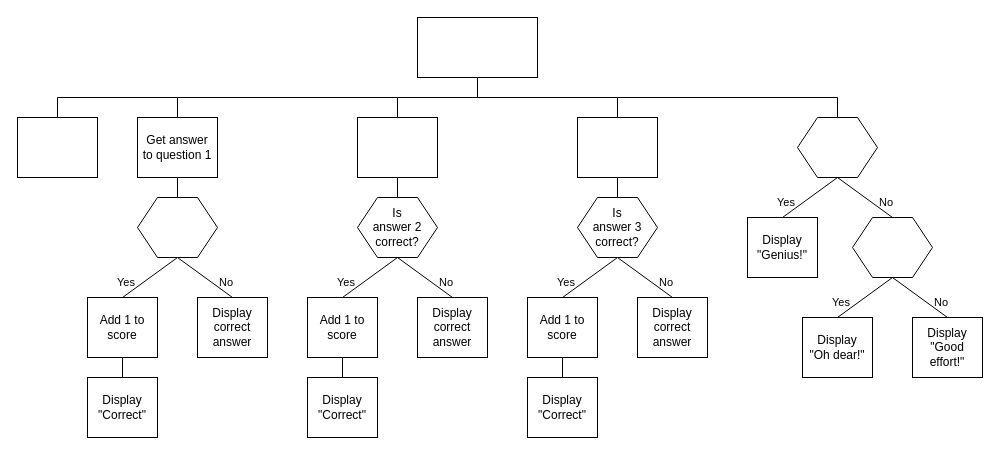
Some shapes in this 1000 by 455 pixel diagram are drawn without their labels. Each missing label, with the centre of its shape:
"Get answer to question 2" belongs at [397,147].
"Get answer to question 3" belongs at [617,147].
"Initialise variables" belongs at [57,147].
"Is answer 1 correct?" belongs at [177,227].
"Is score less than 1?" belongs at [892,247].
"Is score more than 2?" belongs at [837,147].
"The Chase" belongs at [477,47].
